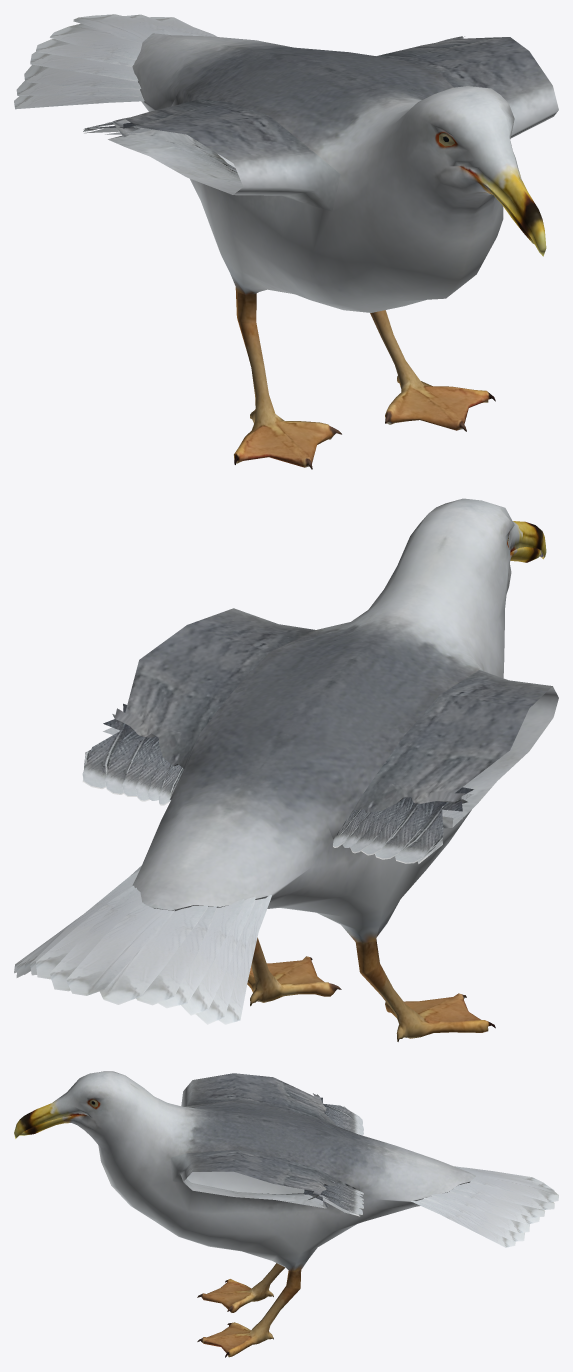
The model's file is Seagull_body.gltf.
3 renders of one model, top to bottom at view 1: azimuth 30°, elevation 25°; view 2: azimuth 150°, elevation 25°; view 3: azimuth 270°, elevation 25°, orthographic. The views are drawn at different scales.
Visible parts, largest first — view 1: Seagull_body; view 2: Seagull_body; view 3: Seagull_body.
Part boxes in pixels (left/top/right/bottom): Seagull_body: left=14, top=14, right=558, bottom=469; Seagull_body: left=14, top=498, right=558, bottom=1041; Seagull_body: left=14, top=1071, right=558, bottom=1357.
Size of the model in its own units: 0.2502 by 0.2695 by 0.5399.
Materials: 1 (1 with a texture image).
